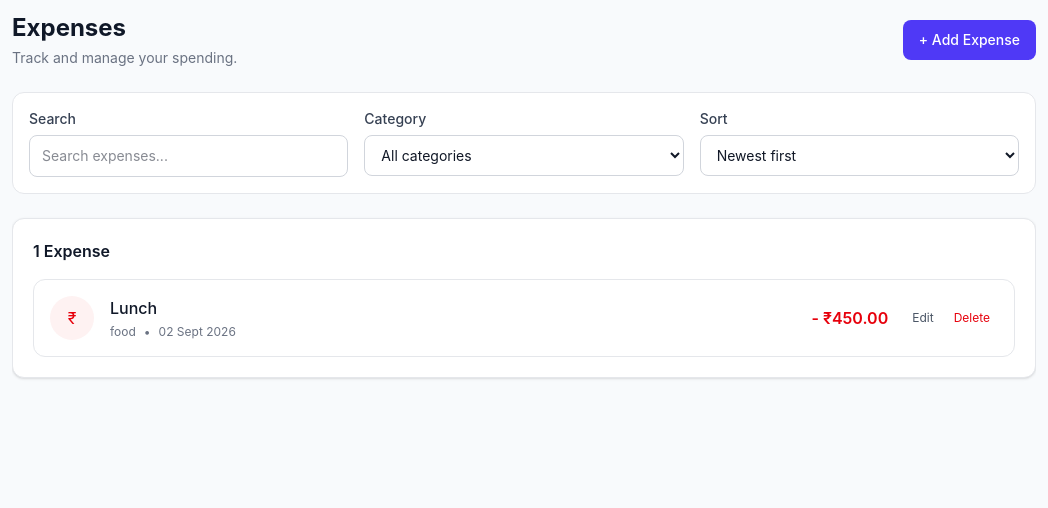
Test: Expenses page › deletes a row after the user confirms
Expected: the heading "Lunch" is shown, [110, 298, 157, 318]
Click the button "Delete" at (972, 318), box [946, 306, 998, 330]
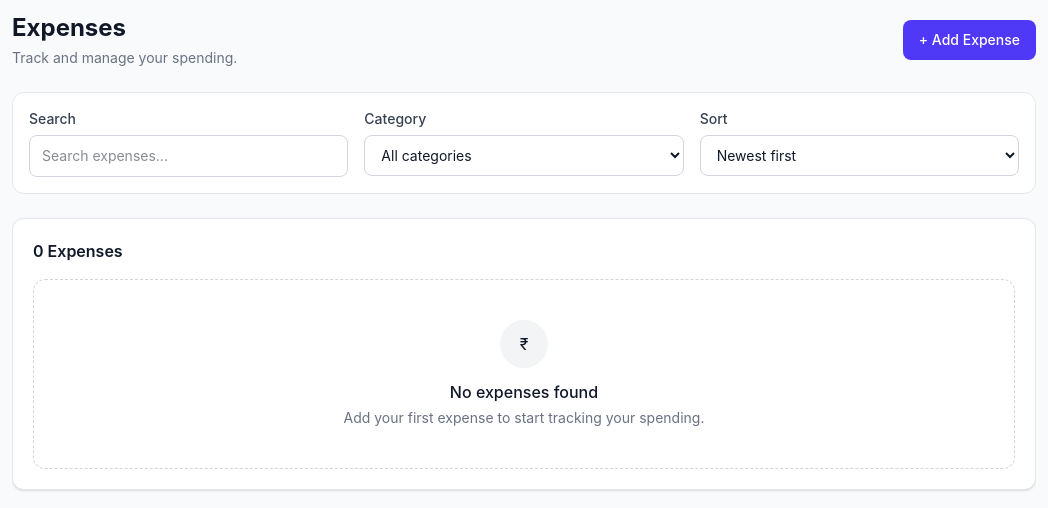
Result: the heading "Lunch" is gone
